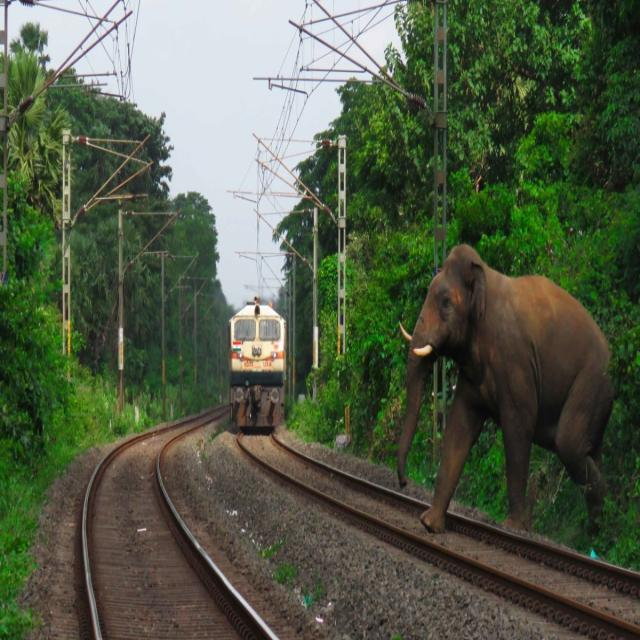Elephant: (385, 230, 619, 559)
